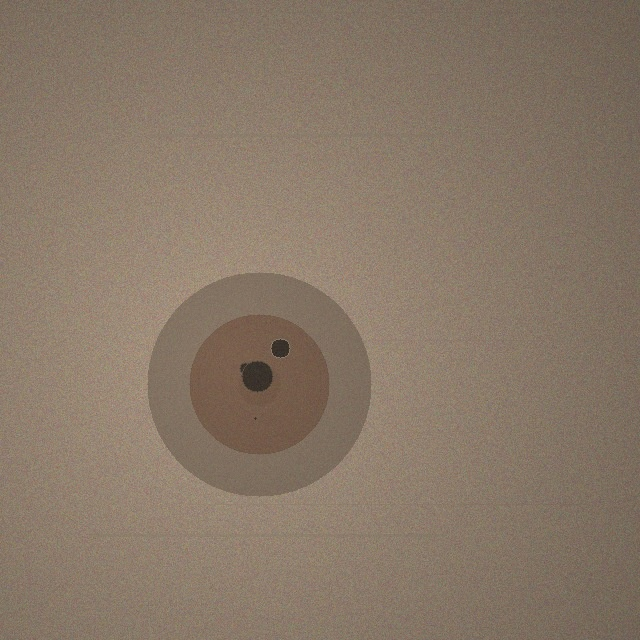shrinkage: (147, 272, 371, 496)
